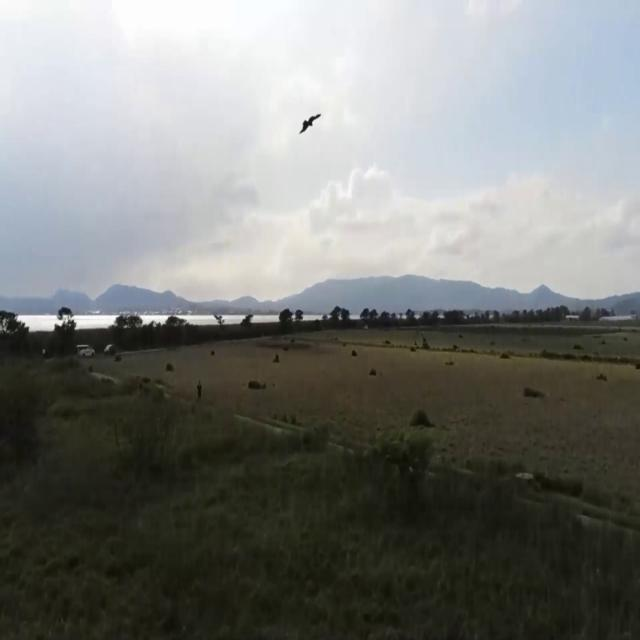bird: (298, 98, 324, 152), (351, 342, 357, 364)
